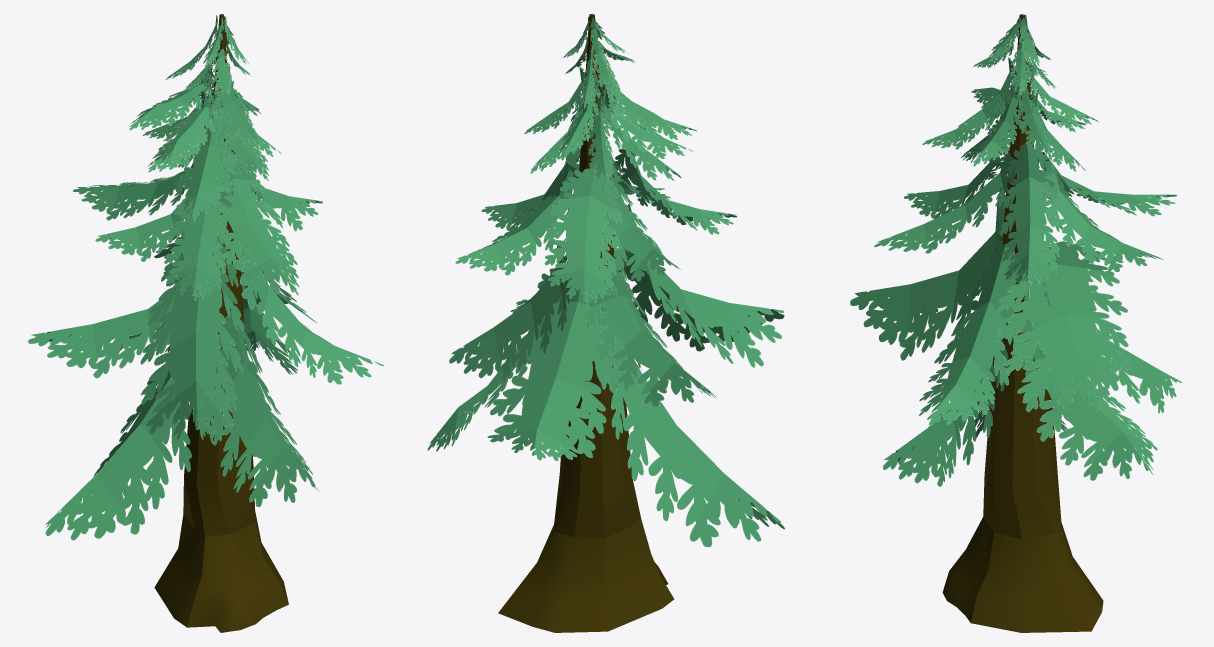
The model's file is Pine_tree_3.fbx.
3 renders of one model, left to right at view 1: azimuth 30°, elevation 25°; view 2: azimuth 150°, elevation 25°; view 3: azimuth 270°, elevation 25°, orthographic.
Parts seen in each view (by area): view 1: pPlane35, pPlane34, pCube1, pPlane36, pPlane37, pPlane33, pPlane32, pPlane31; view 2: pPlane34, pCube1, pPlane35, pPlane36, pPlane33, pPlane37, pPlane32, pPlane31; view 3: pPlane35, pCube1, pPlane36, pPlane34, pPlane37, pPlane33, pPlane32, pPlane31.
Part boxes in pixels (x1,y1,x2,y2): pPlane35: (28,230,383,443); pPlane34: (45,257,319,540); pCube1: (154,14,288,632); pPlane36: (73,151,322,300); pPlane37: (142,80,281,221); pPlane33: (129,62,261,172); pPlane32: (165,15,249,80); pPlane31: (183,37,250,95); pPlane34: (427,258,784,547); pCube1: (498,14,674,632); pPlane35: (449,204,784,406); pPlane36: (455,140,737,305); pPlane33: (524,67,692,158); pPlane37: (530,81,696,182); pPlane32: (563,14,627,100); pPlane31: (565,37,634,108); pPlane35: (850,196,1130,425); pCube1: (942,14,1103,632); pPlane36: (874,144,1176,285); pPlane34: (883,280,1181,486); pPlane37: (922,83,1085,171); pPlane33: (956,57,1098,161); pPlane32: (988,14,1051,66); pPlane31: (973,41,1056,95).
Bounding box in the file's own units: 683 × 1137 × 631.
2 materials, 1 textured.
